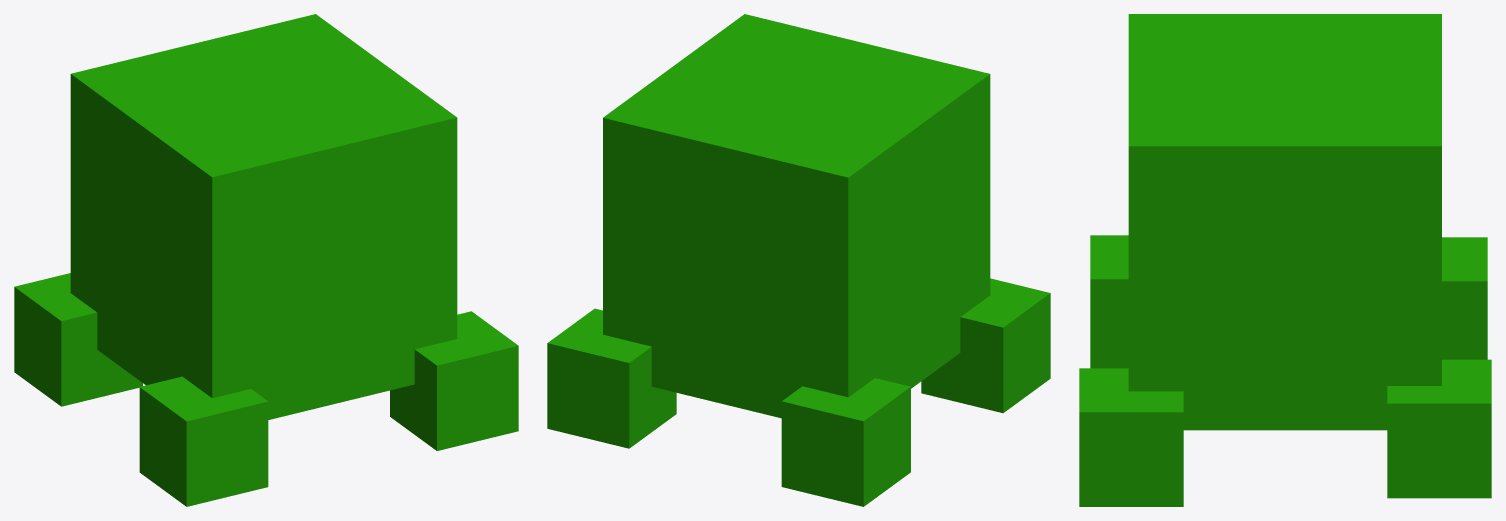
The model's file is frog1.dae.
3 renders of one model, left to right at view 1: azimuth 30°, elevation 25°; view 2: azimuth 150°, elevation 25°; view 3: azimuth 270°, elevation 25°, orthographic. The views are drawn at different scales.
Visible parts, largest first — view 1: Cube, Cube.004, Cube.001, Cube.003; view 2: Cube, Cube.003, Cube.002, Cube.004; view 3: Cube, Cube.001, Cube.002, Cube.003, Cube.004.
Boxes of the visible parts, x1,y1,x2,y2 form: Cube: [70, 14, 457, 419]; Cube.004: [139, 376, 268, 506]; Cube.001: [390, 311, 518, 450]; Cube.003: [14, 273, 142, 406]; Cube: [603, 14, 990, 418]; Cube.003: [781, 378, 910, 506]; Cube.002: [547, 308, 676, 448]; Cube.004: [921, 278, 1050, 413]; Cube: [1128, 14, 1441, 430]; Cube.001: [1079, 368, 1183, 506]; Cube.002: [1387, 359, 1491, 498]; Cube.003: [1442, 237, 1487, 359]; Cube.004: [1090, 235, 1128, 368].
Size of the model in its own units: 0.4164 by 0.4108 by 0.3733.
